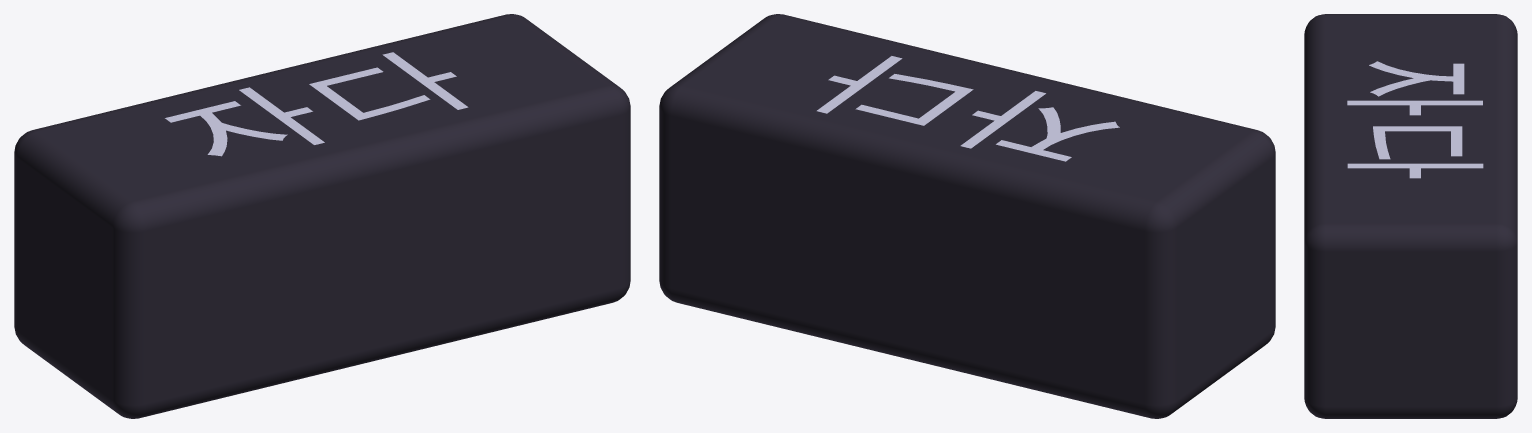
The model's file is sleep.glb.
3 renders of one model, left to right at view 1: azimuth 30°, elevation 25°; view 2: azimuth 150°, elevation 25°; view 3: azimuth 270°, elevation 25°, orthographic. The views are drawn at different scales.
Visible parts, largest first — view 1: Cut, Extrude; view 2: Cut, Extrude; view 3: Cut, Extrude.
Part boxes in pixels (x1,y1,x2,y2): Cut: (14, 14, 630, 418); Extrude: (165, 52, 468, 156); Cut: (659, 14, 1275, 418); Extrude: (817, 56, 1119, 161); Cut: (1304, 14, 1517, 418); Extrude: (1347, 61, 1483, 178).
Bounding box in the file's own units: 5 × 2 × 2.
